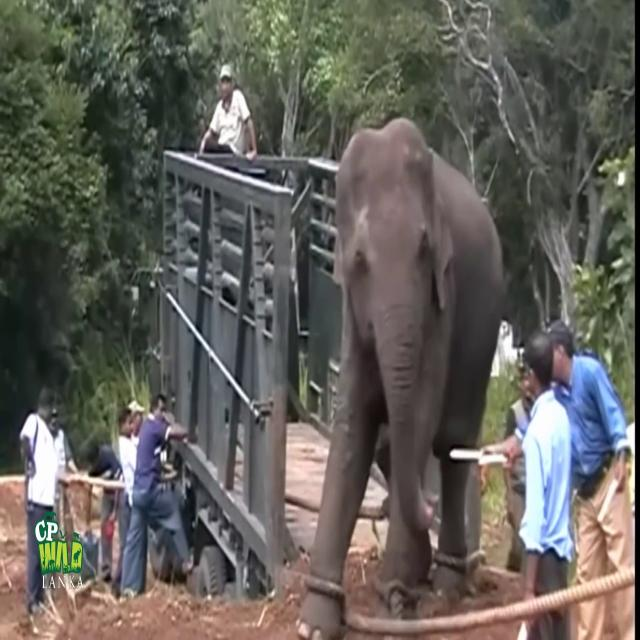Elephant: (296, 116, 507, 638)
person: (544, 318, 635, 639), (517, 330, 576, 639), (19, 385, 59, 617), (198, 63, 258, 161)
